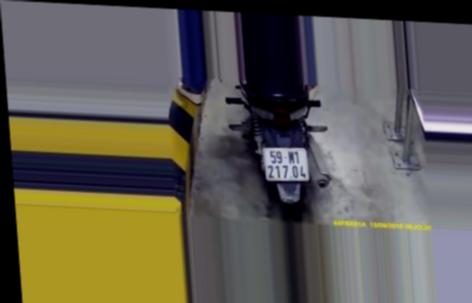License_Plate: (260, 145, 311, 184)
